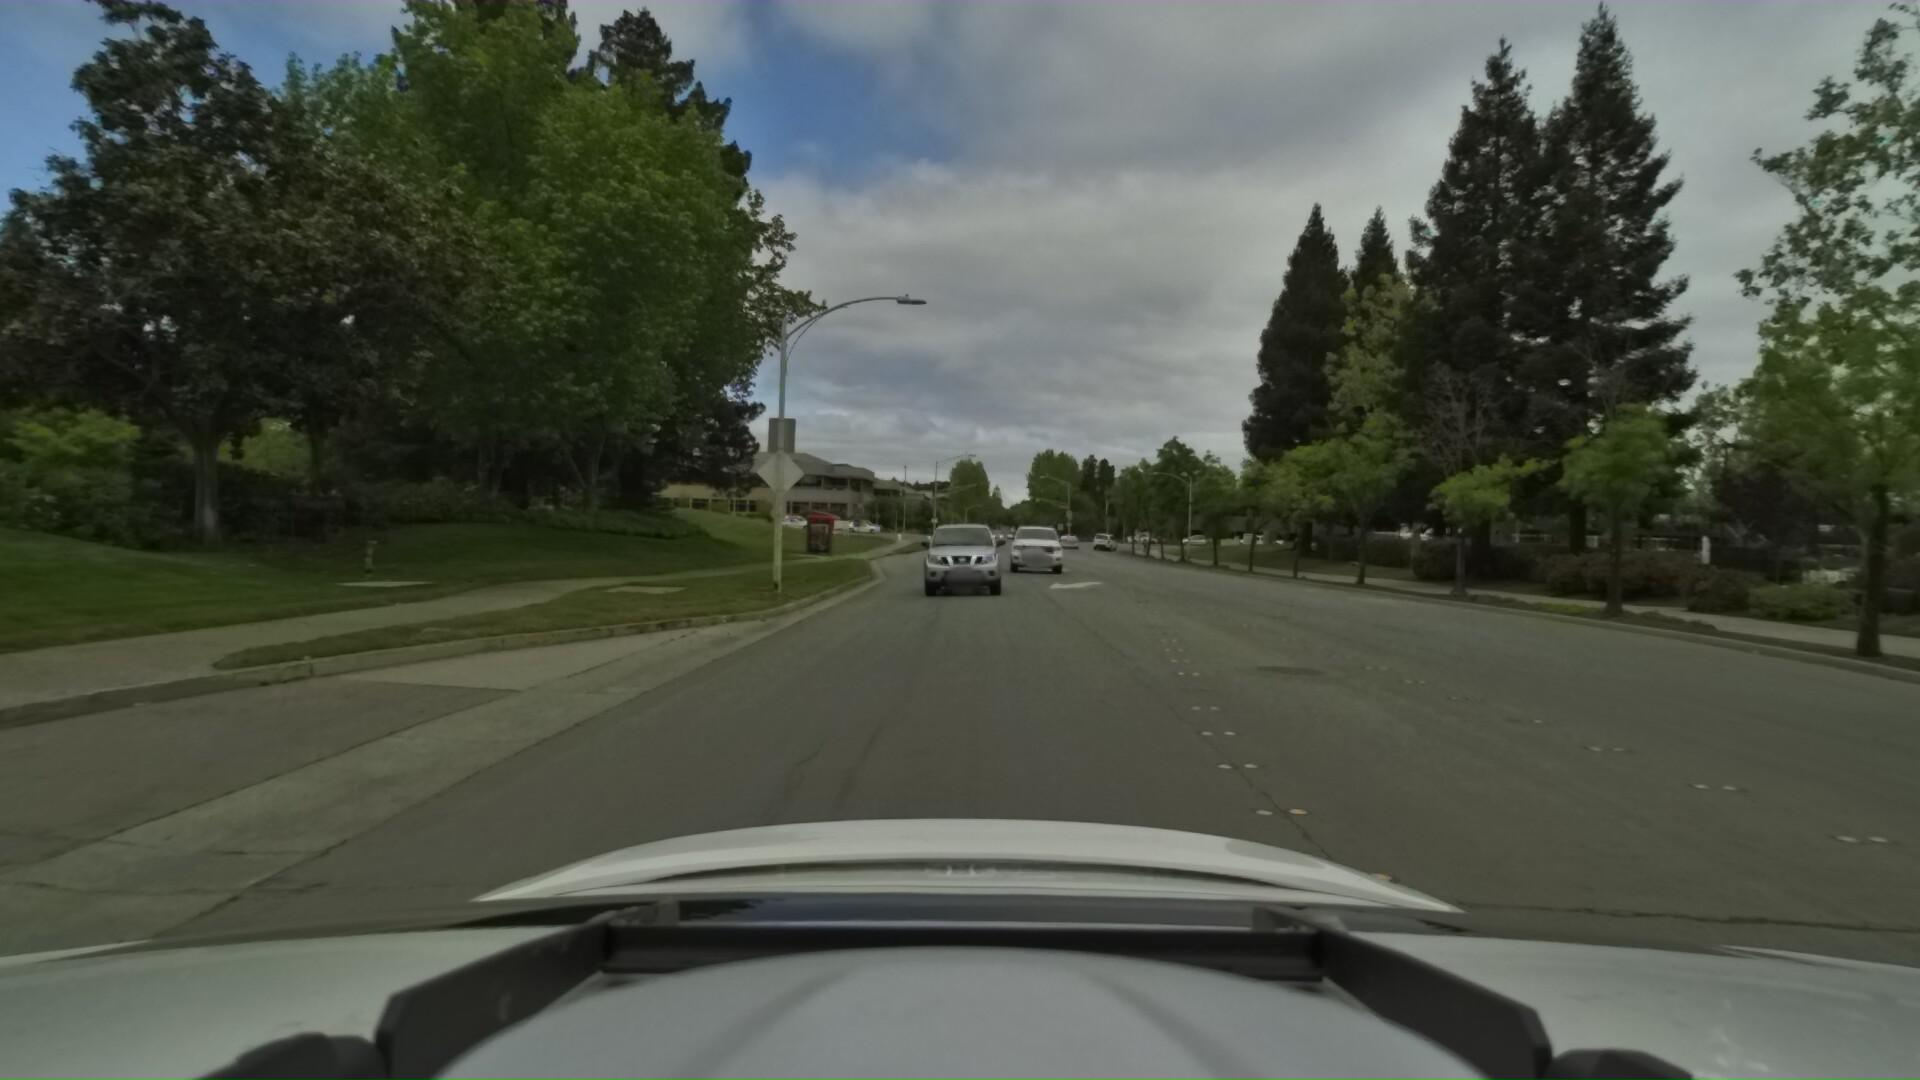car: (907, 509, 1005, 603), (1005, 516, 1067, 572)
